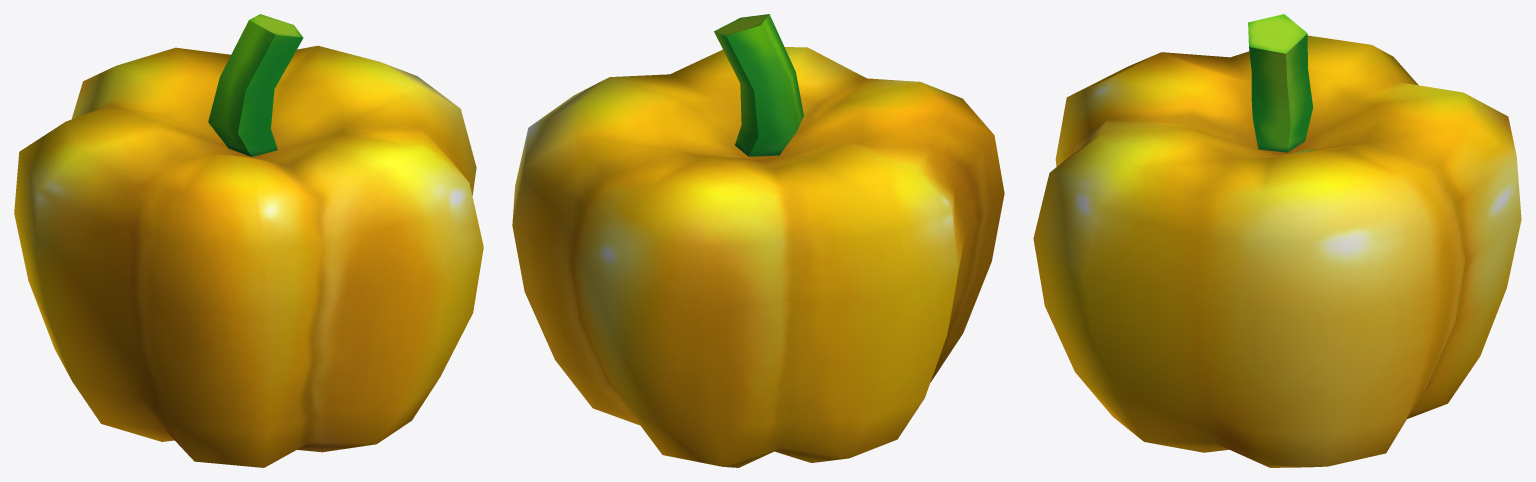
File: 宝宝巴士-切菜大师-黄椒.FBX
3 renders of one model, left to right at view 1: azimuth 30°, elevation 25°; view 2: azimuth 150°, elevation 25°; view 3: azimuth 270°, elevation 25°, orthographic. The views are drawn at different scales.
Visible parts, largest first — view 1: 宝宝巴士-切菜大师-黄椒; view 2: 宝宝巴士-切菜大师-黄椒; view 3: 宝宝巴士-切菜大师-黄椒.
Boxes of the visible parts, x1,y1,x2,y2 form: 宝宝巴士-切菜大师-黄椒: (14, 14, 483, 467); 宝宝巴士-切菜大师-黄椒: (512, 14, 1004, 467); 宝宝巴士-切菜大师-黄椒: (1033, 14, 1521, 467).
Size of the model in its own units: 21.25 by 19.78 by 21.06.
Materials: 1 (1 with a texture image).
